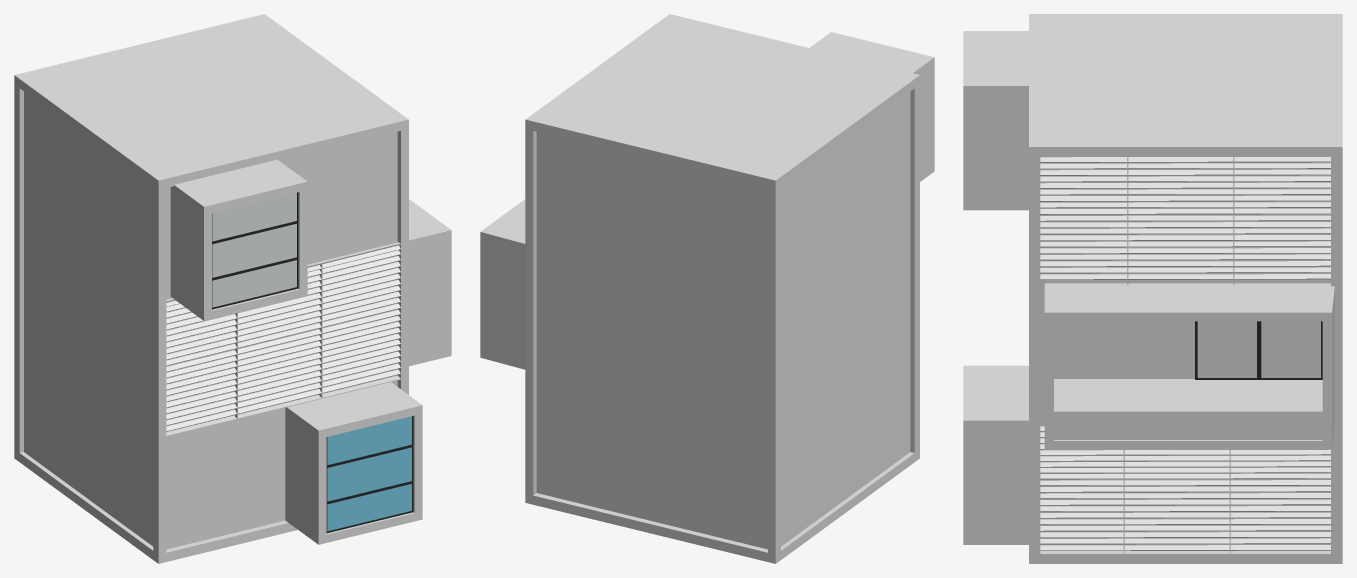
Rendered from Bloc_19A.fbx.
3 views of the same model, side by side, from view 1: azimuth 30°, elevation 25°; view 2: azimuth 150°, elevation 25°; view 3: azimuth 270°, elevation 25° (orthographic). The views are drawn at different scales.
Visible parts, largest first — view 1: Bloc_19A; view 2: Bloc_19A; view 3: Bloc_19A.
Part boxes in pixels (<box>): Bloc_19A: <box>14,14,451,563</box>; Bloc_19A: <box>480,14,934,563</box>; Bloc_19A: <box>963,14,1342,563</box>.
Bounding box in the file's own units: 753 × 914 × 749.
